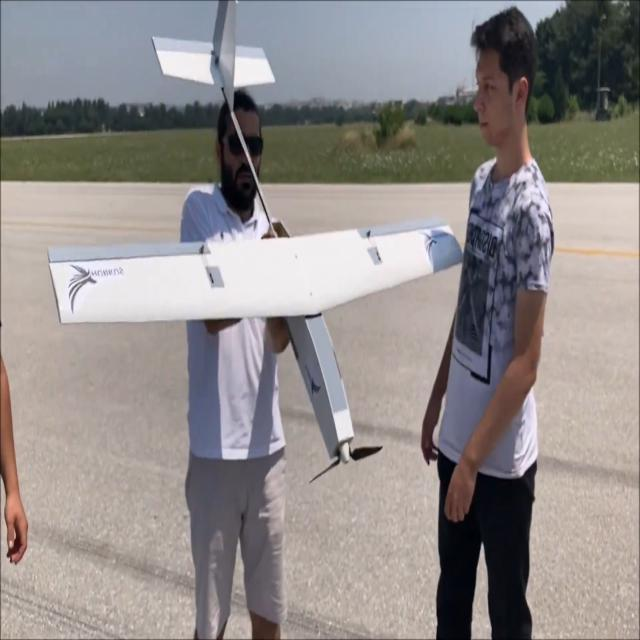Airplane: (32, 2, 494, 511)
